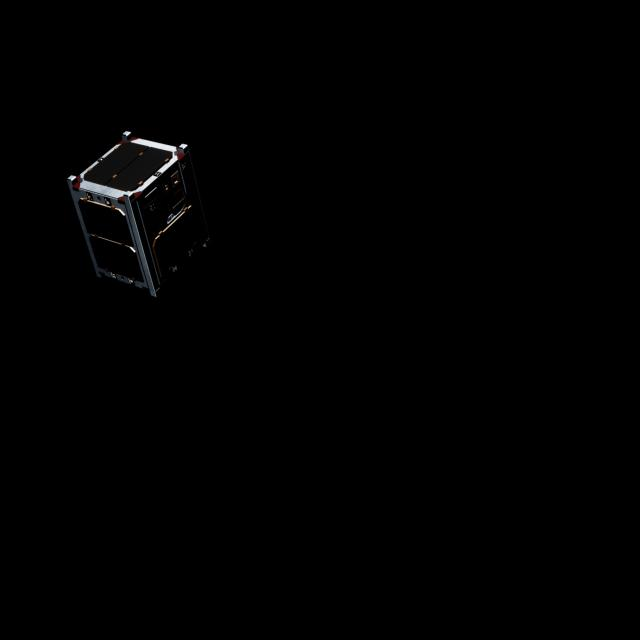medium_debris: (71, 125, 221, 298)
